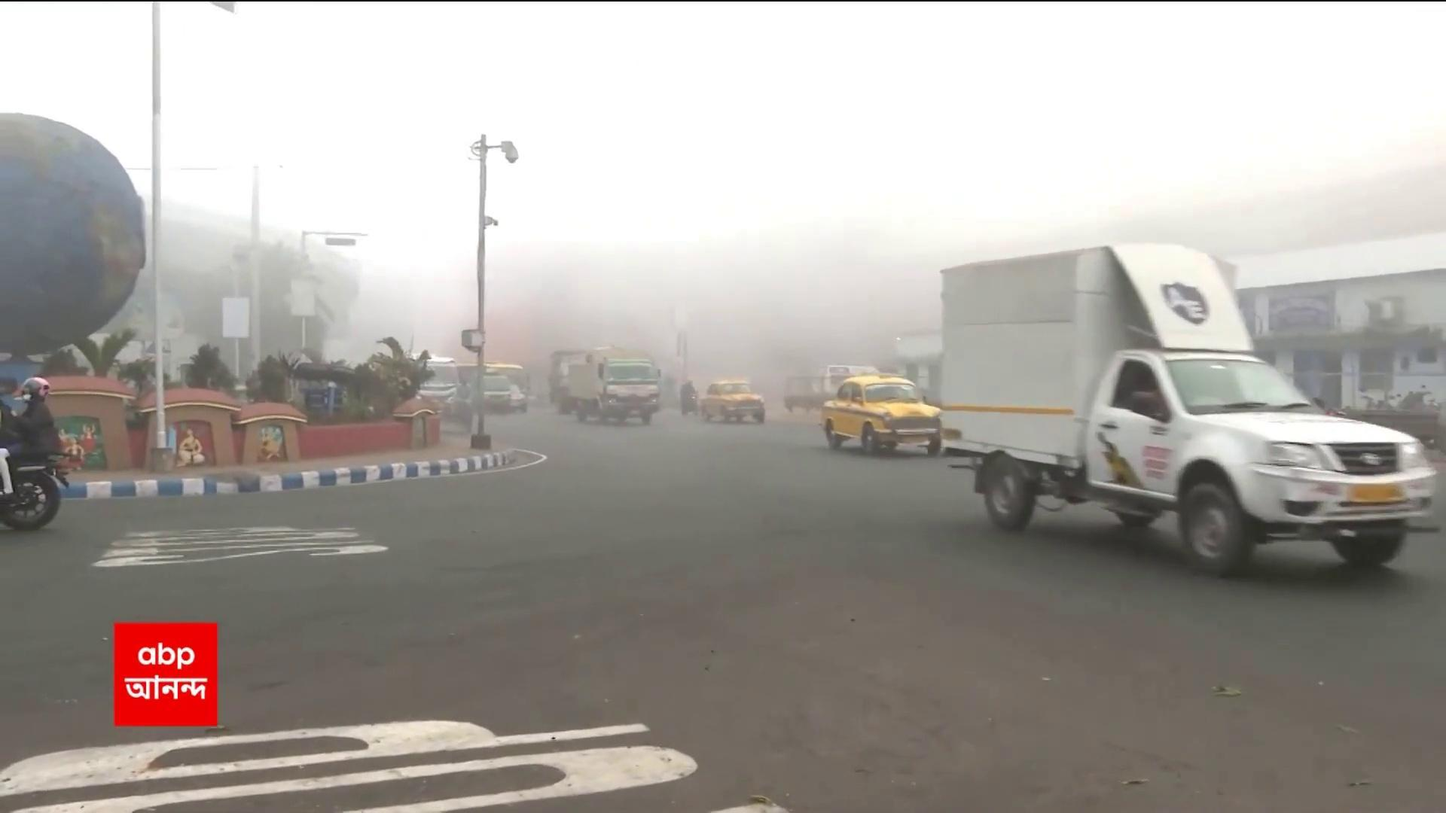Car: (817, 371, 940, 458), (696, 381, 766, 426)
Truck: (934, 238, 1433, 580), (565, 345, 665, 431)
